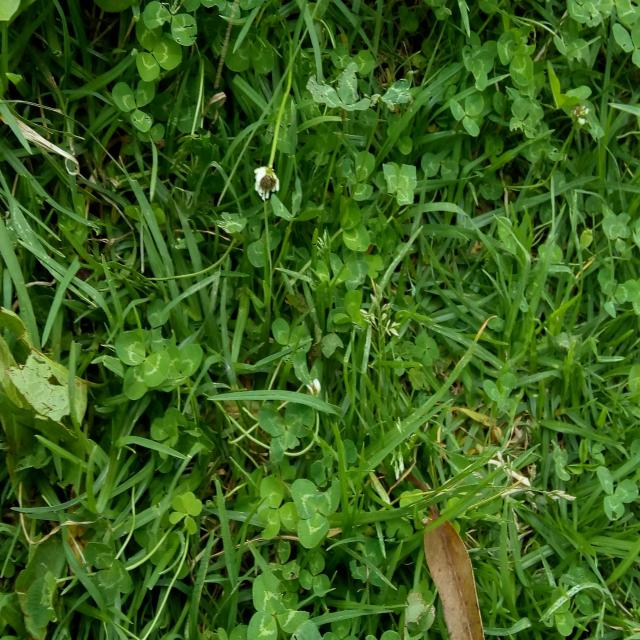Four Leaf Clover: (150, 414, 178, 459)
